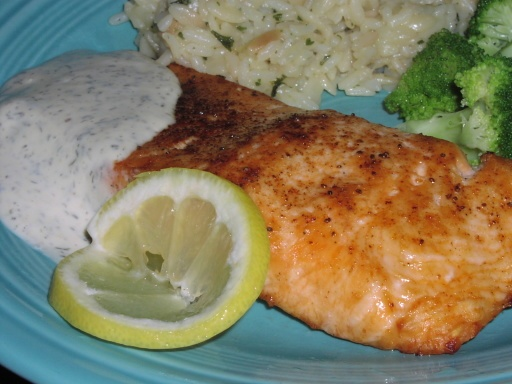background: (0, 1, 410, 214)
